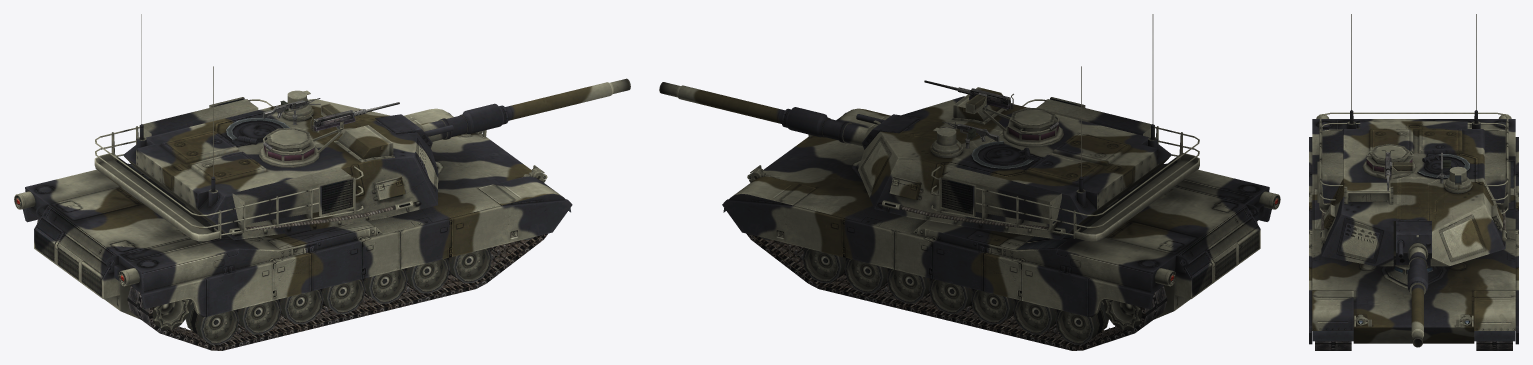
Rendered from tank..glb.
The picture shows the model from 3 angles, left to right: view 1: azimuth 30°, elevation 25°; view 2: azimuth 150°, elevation 25°; view 3: azimuth 270°, elevation 25°; orthographic projection. The views are drawn at different scales.
Parts seen in each view (by area): view 1: mesh_282_mat_62_0, mesh_283_mat_63_0; view 2: mesh_282_mat_62_0, mesh_283_mat_63_0; view 3: mesh_282_mat_62_0, mesh_283_mat_63_0.
Boxes of the visible parts, bbox=[...] form: mesh_282_mat_62_0: bbox=[14, 14, 630, 344]; mesh_283_mat_63_0: bbox=[37, 218, 547, 350]; mesh_282_mat_62_0: bbox=[659, 14, 1280, 344]; mesh_283_mat_63_0: bbox=[746, 221, 1257, 350]; mesh_282_mat_62_0: bbox=[1309, 14, 1518, 347]; mesh_283_mat_63_0: bbox=[1315, 341, 1512, 350].
Size of the model in its own units: 111 by 50.3 by 41.24.
2 materials, 2 textured.
